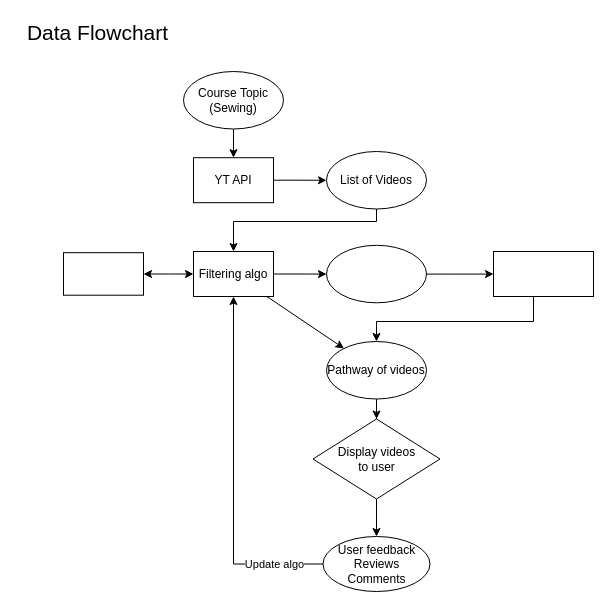
Image size: 611x609. Some labels were removed from this diagram. The shapes that lost their labels are listed below. From the top down, each one's centre as x and y in pixels, then its label:
At [103,273]: "Confluence".
At [376,273]: "List of curated videos".
At [543,273]: "Sorting algo Begin/Inter/Adv".
